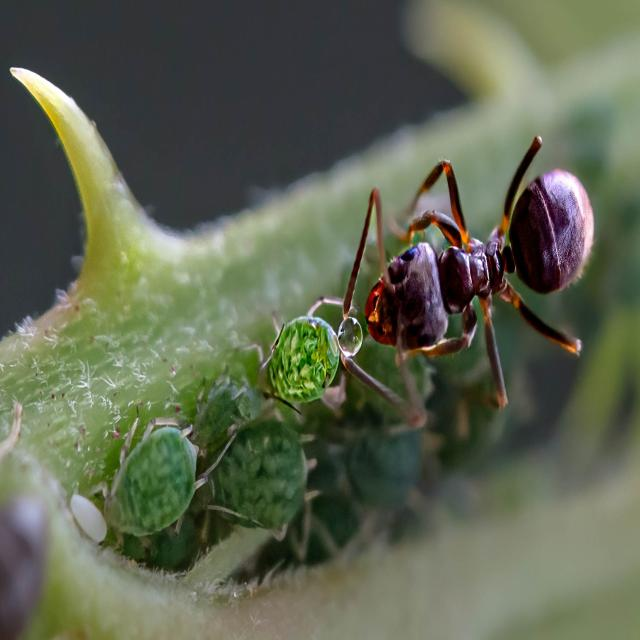Aphid-Grown-: (100, 406, 201, 550)
